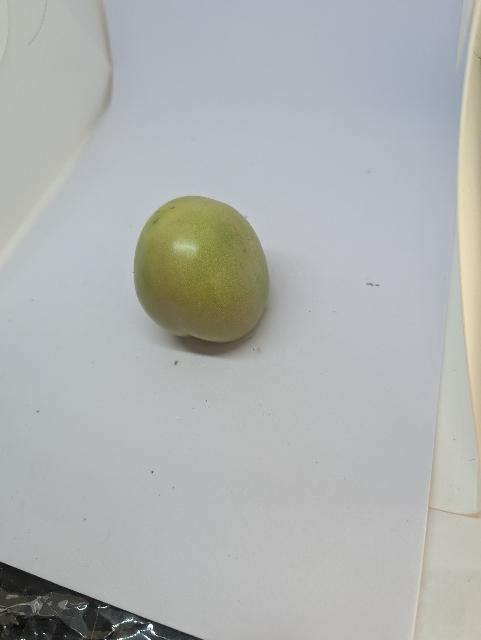green: (132, 193, 272, 345)
